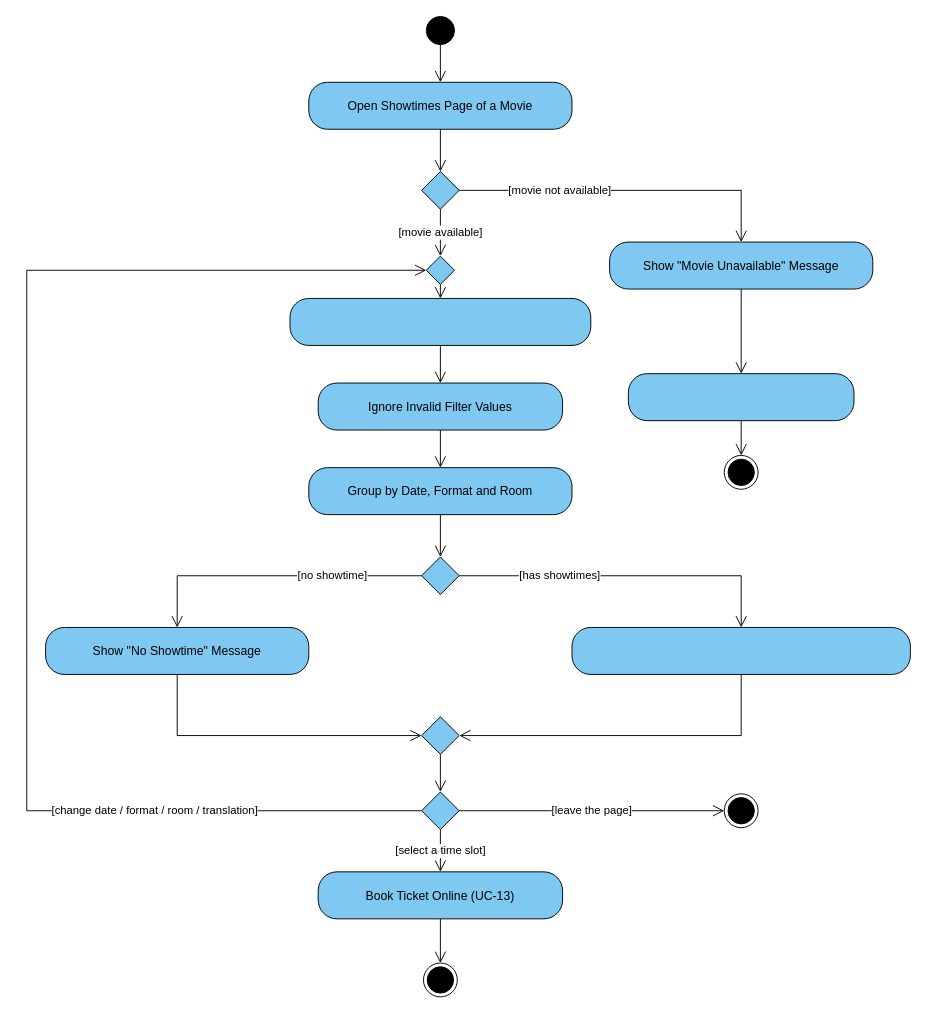
Some shapes in this 927 by 1013 pixel diagram are drawn without their labels. The centre of each missing label's shape, as x and y in pixels:
Load Showtimes Open for Online Sale: [440,321]
Return to Movie List: [740,397]
Show Date Chips (Today + 7 Days), Filters and Time Slots: [740,650]
